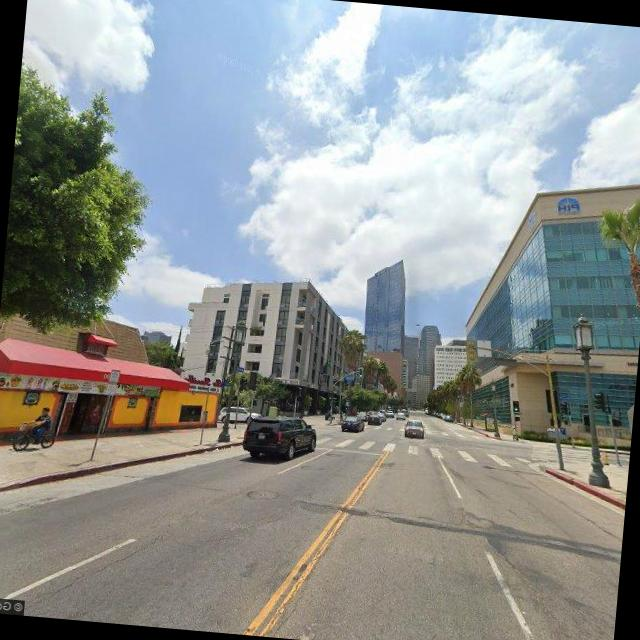pothole: (32, 520, 170, 610)
